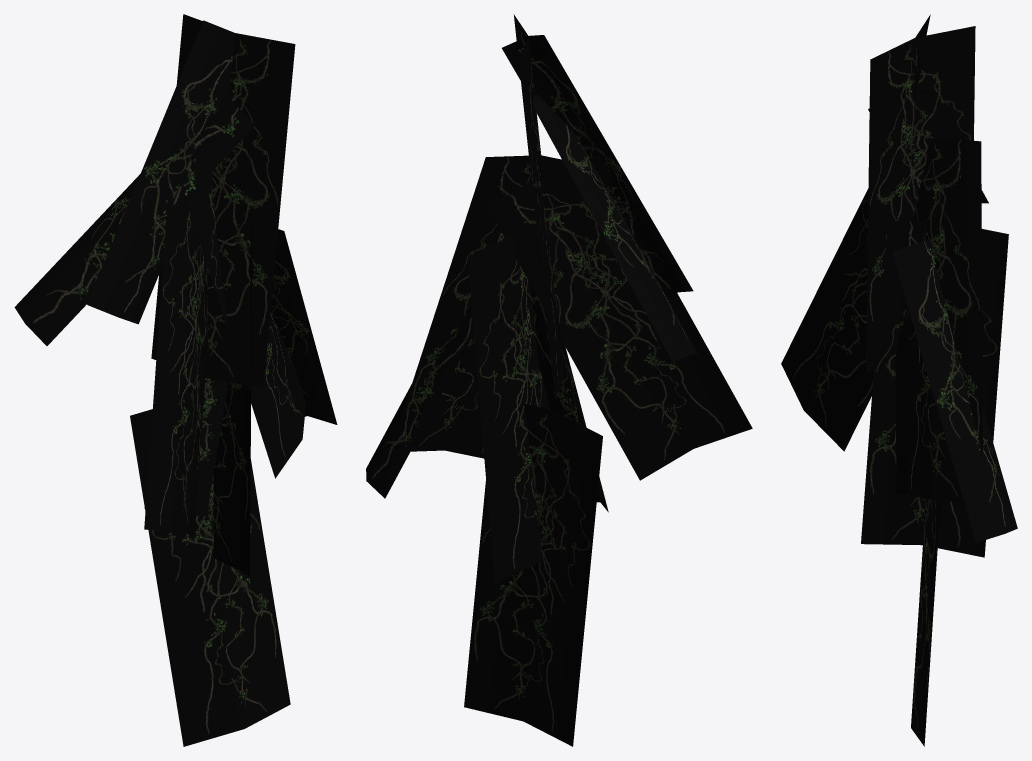
Rendered from MK4_Vine3.DAE.
The picture shows the model from 3 angles, left to right: view 1: azimuth 30°, elevation 25°; view 2: azimuth 150°, elevation 25°; view 3: azimuth 270°, elevation 25°; orthographic projection.
Visible parts, largest first — view 1: polySurface23; view 2: polySurface23; view 3: polySurface23.
Part boxes in pixels (bbox=[...]): polySurface23: bbox=[14, 14, 337, 746]; polySurface23: bbox=[366, 14, 752, 746]; polySurface23: bbox=[781, 14, 1017, 746].
Bounding box in the file's own units: 5.21 × 3.36 × 11.07.
